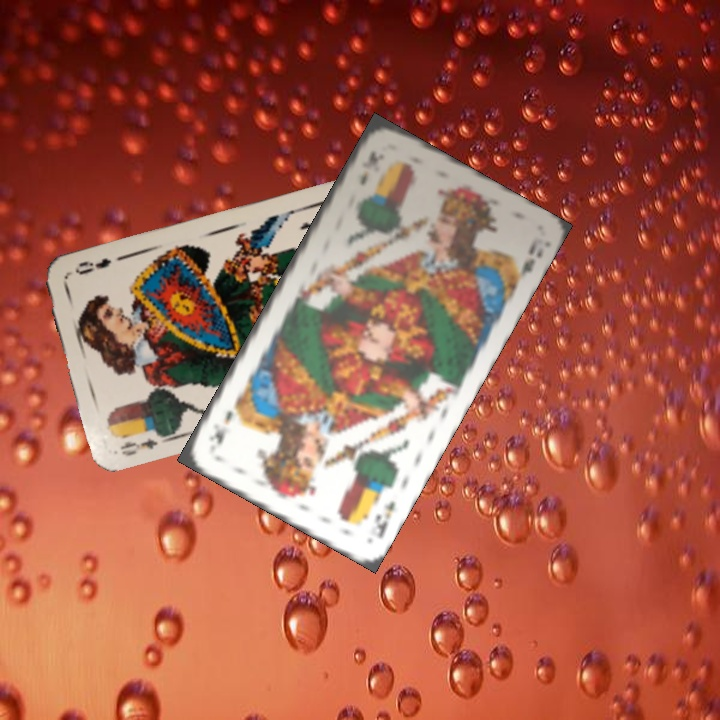EK: (370, 496, 398, 542), (355, 147, 381, 188)
EO: (116, 434, 161, 459)
